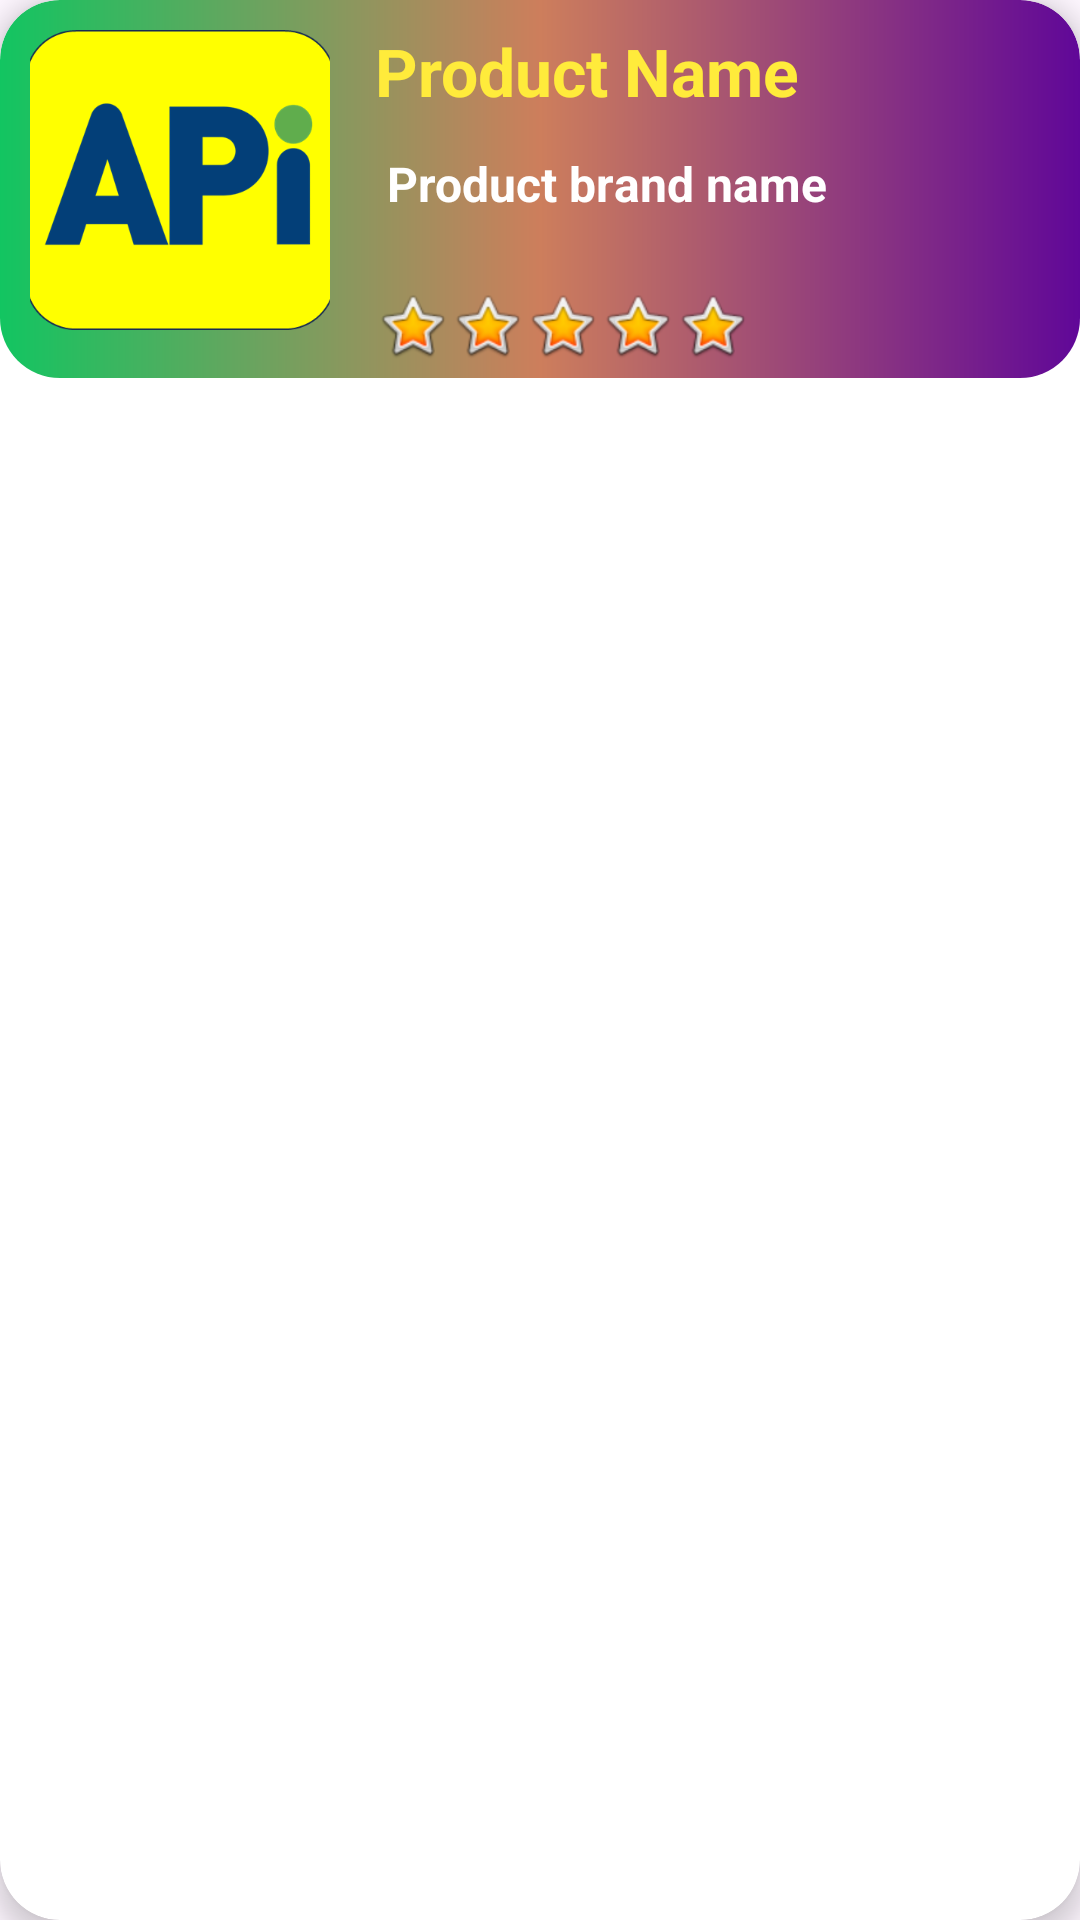

Screen size 1080w x 1920h. Icon name, then its center in pixels as [x,y]:
star on: [409,325], [491,325], [563,326], [638,326], [713,326]
